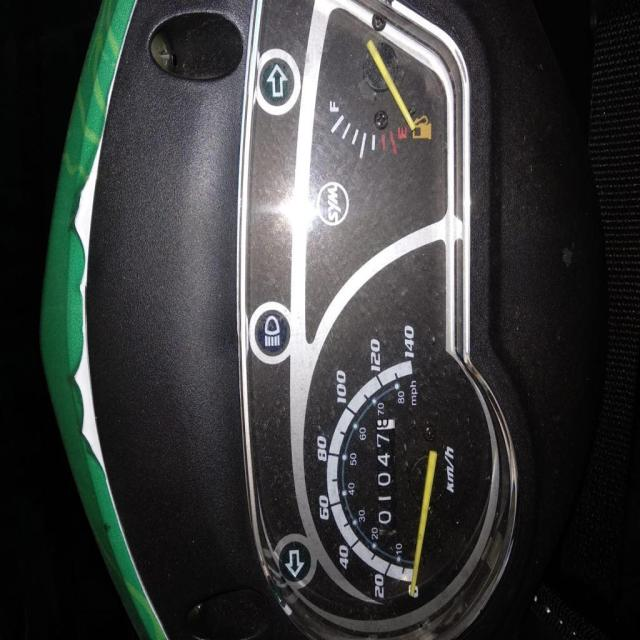odometer: (371, 413, 399, 532)
